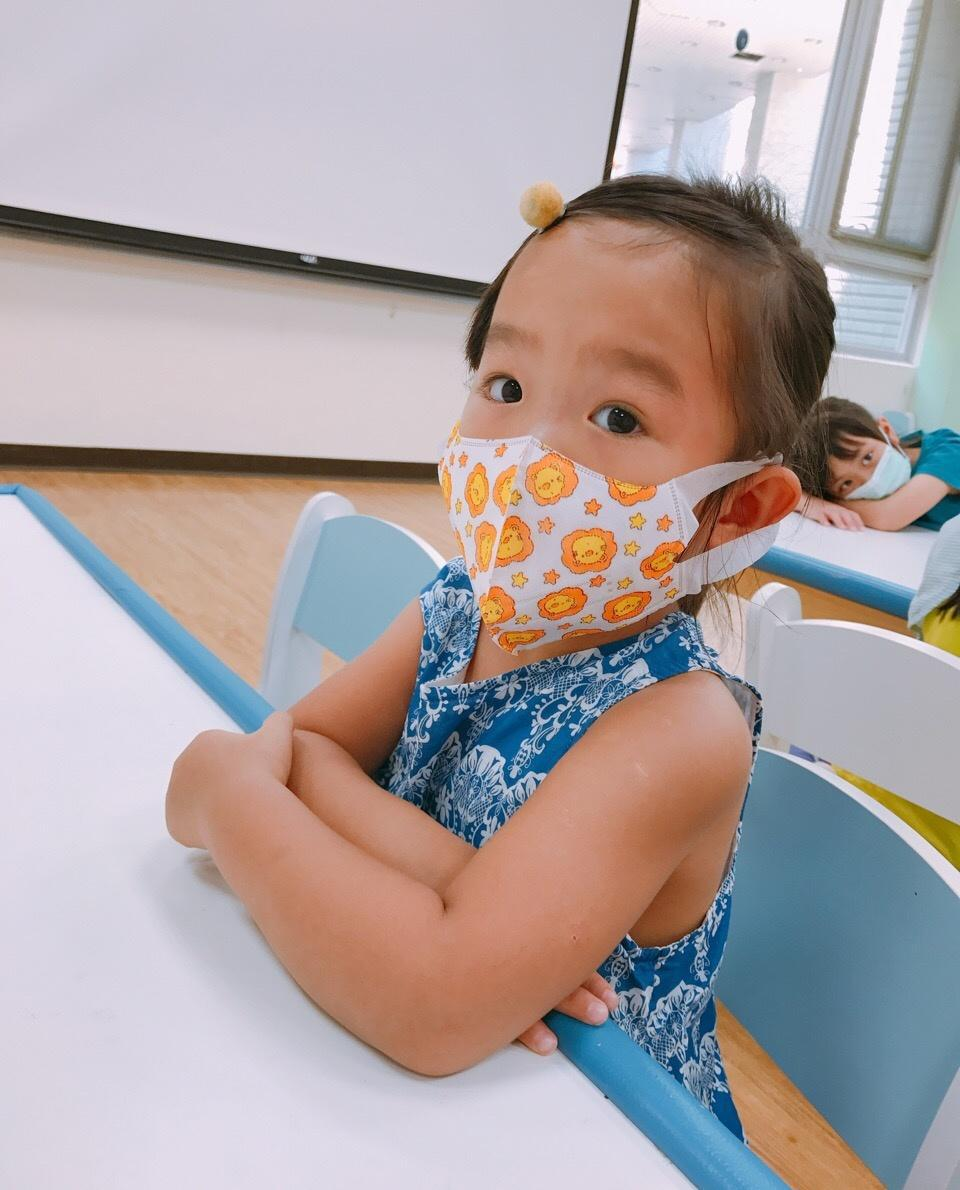OK: (446, 304, 778, 636), (829, 431, 919, 504)
